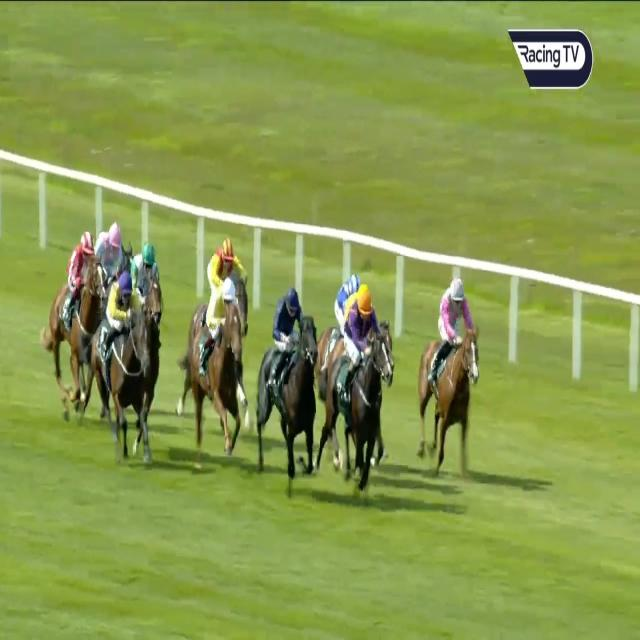horses-racing: (421, 279, 488, 465), (259, 292, 326, 473), (185, 277, 245, 467), (330, 291, 384, 490), (92, 273, 142, 456), (48, 239, 106, 390), (199, 236, 260, 338), (136, 243, 162, 364), (96, 218, 126, 276), (334, 270, 366, 324)
